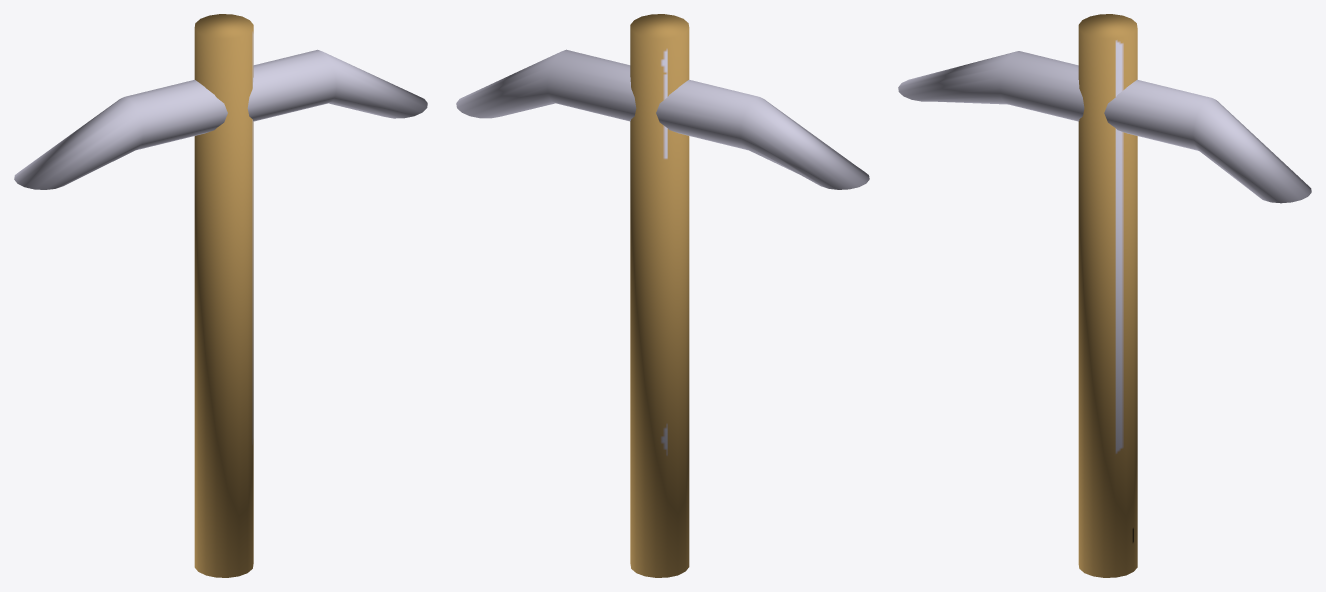
The model's file is pickaxe.fbx.
3 views of the same model, side by side, from view 1: azimuth 30°, elevation 25°; view 2: azimuth 150°, elevation 25°; view 3: azimuth 330°, elevation 25° (orthographic).
Parts seen in each view (by area): view 1: Cylinder; view 2: Cylinder; view 3: Cylinder.
Boxes of the visible parts, <box> form: Cylinder: <box>14,14,427,577</box>; Cylinder: <box>456,14,869,577</box>; Cylinder: <box>898,14,1311,577</box>.
Bounding box in the file's own units: 474 × 600 × 60.
1 material, 1 textured.
